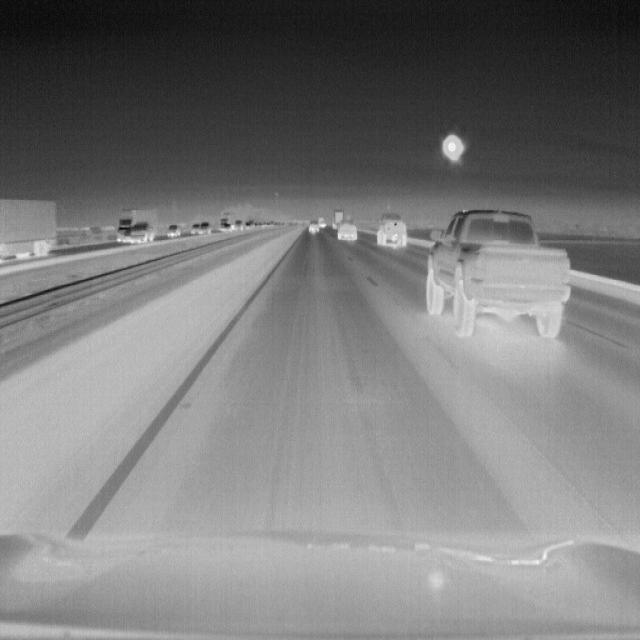Vehicle: (423, 205, 573, 341), (376, 211, 408, 249), (336, 217, 358, 241), (308, 219, 319, 233)
